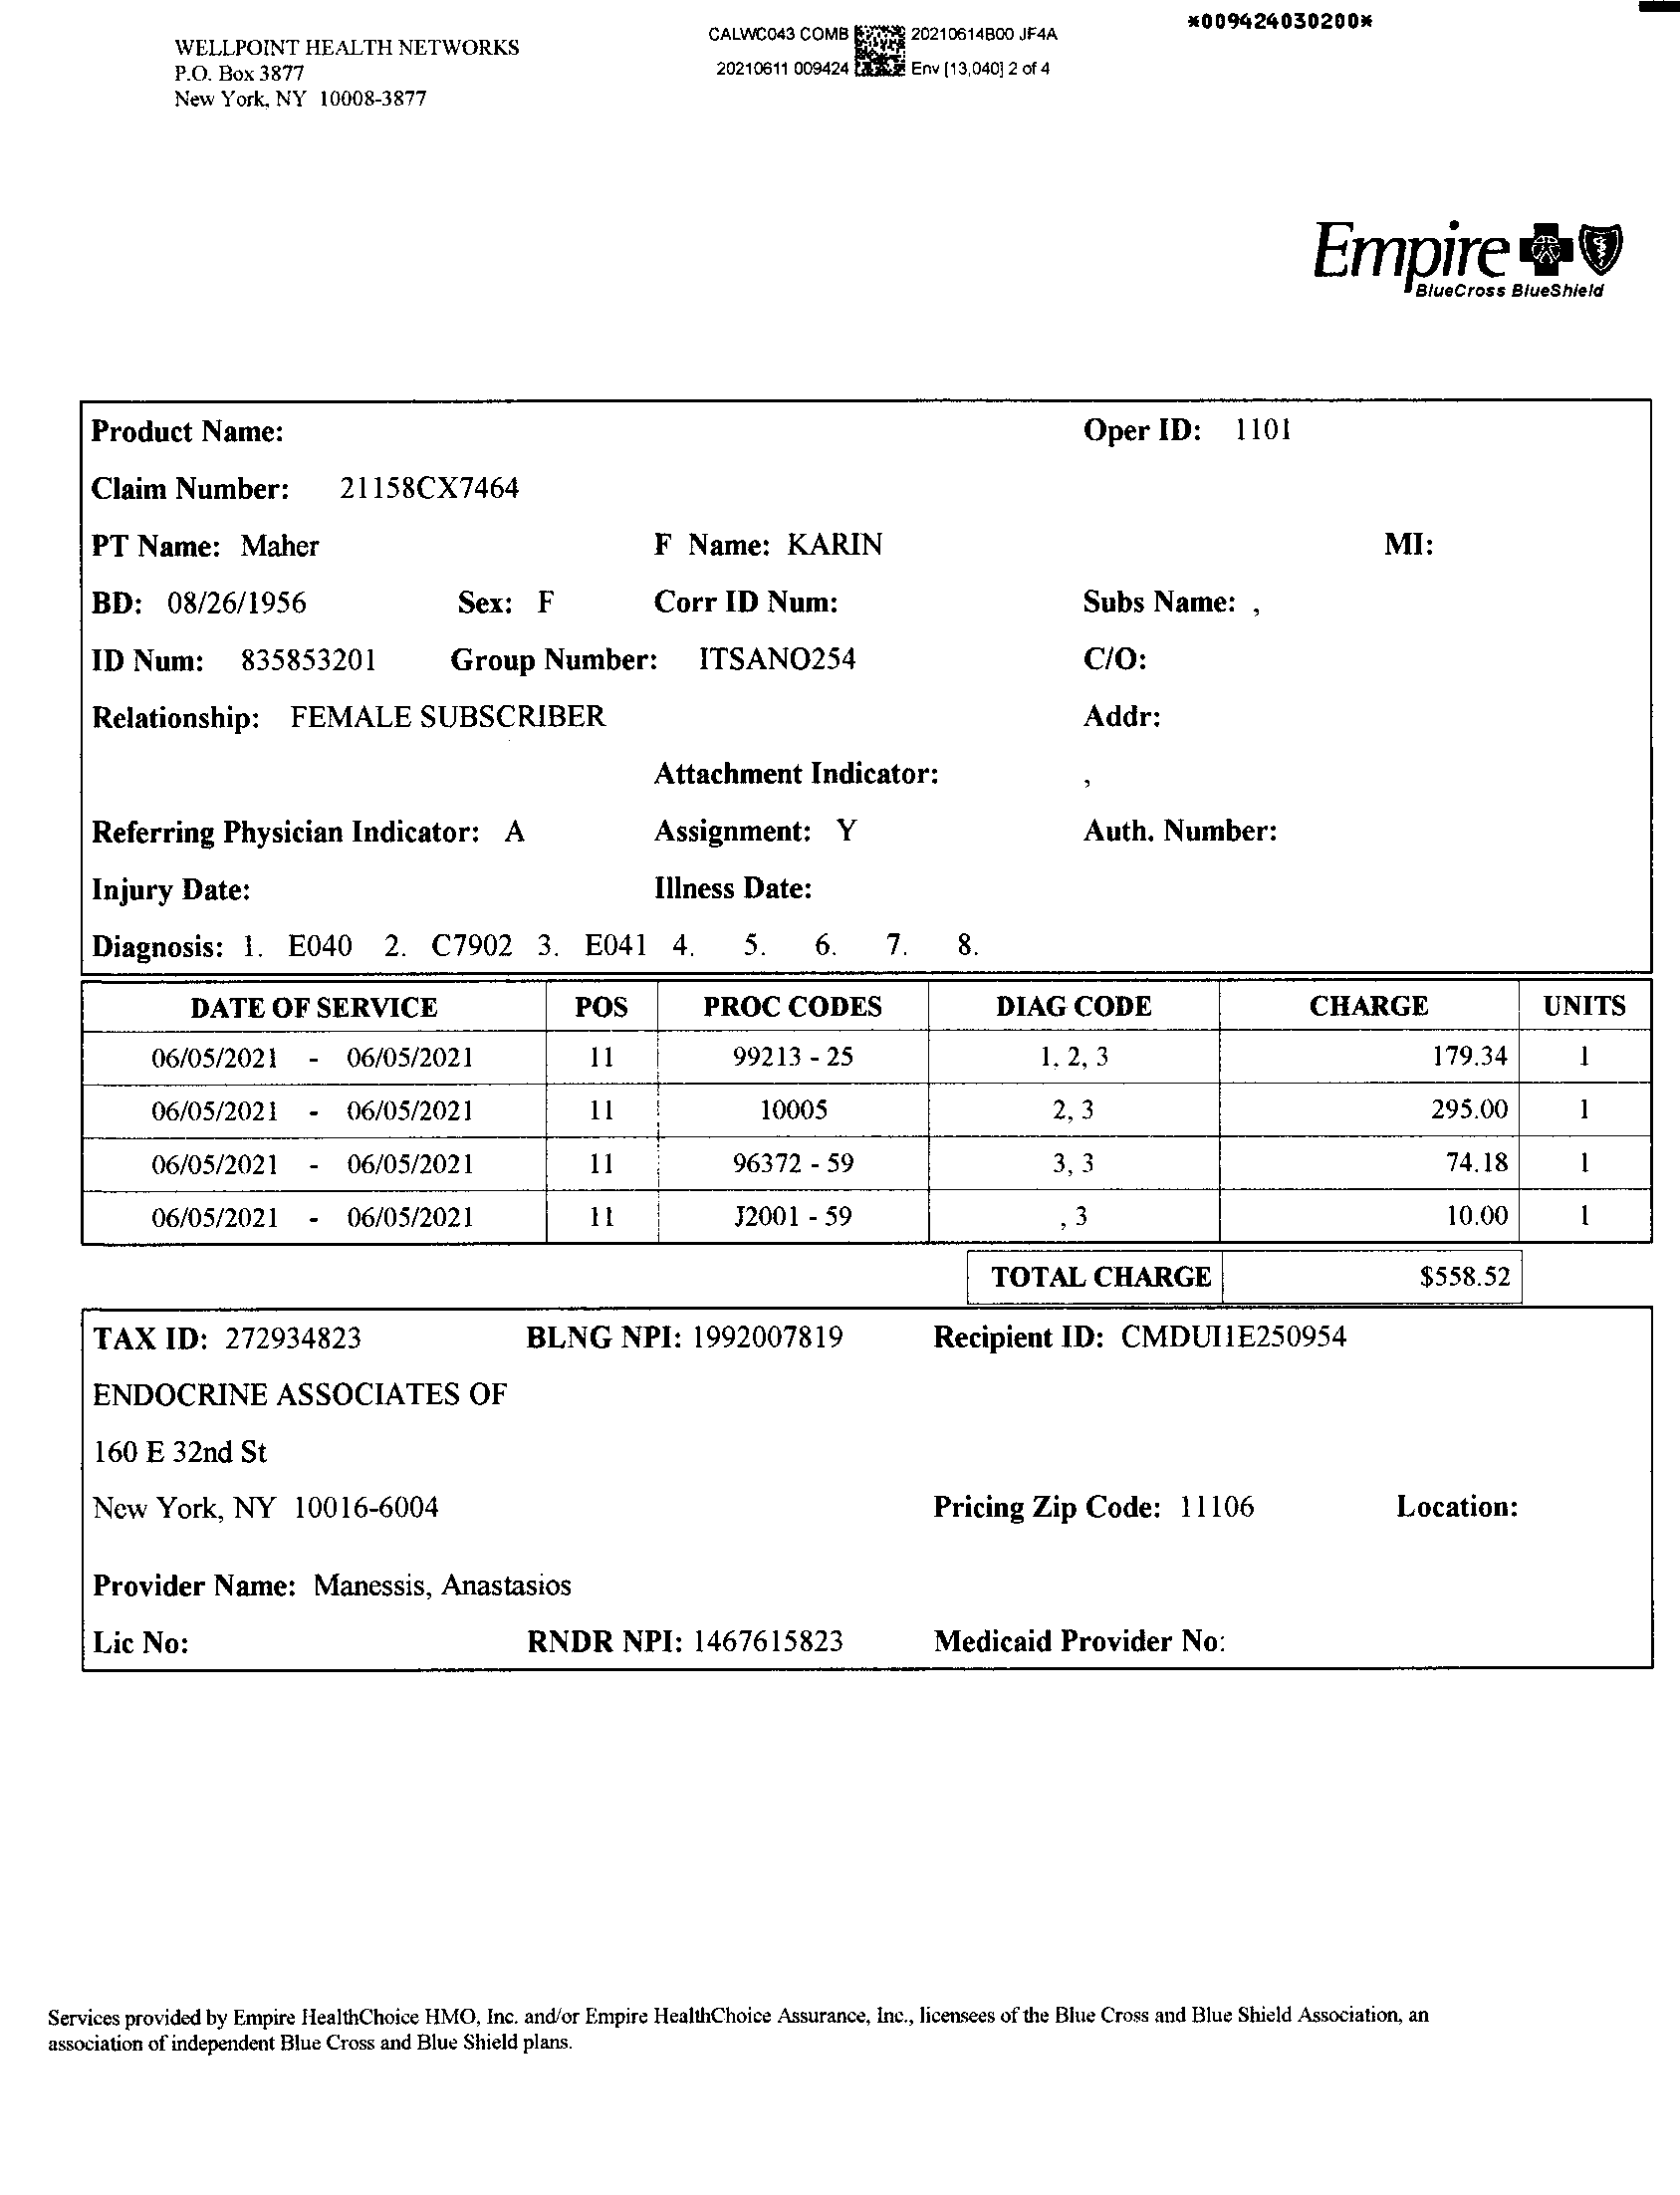data: (56, 372, 1661, 978), (72, 1288, 1661, 1689)
table: (72, 970, 1662, 1262)
